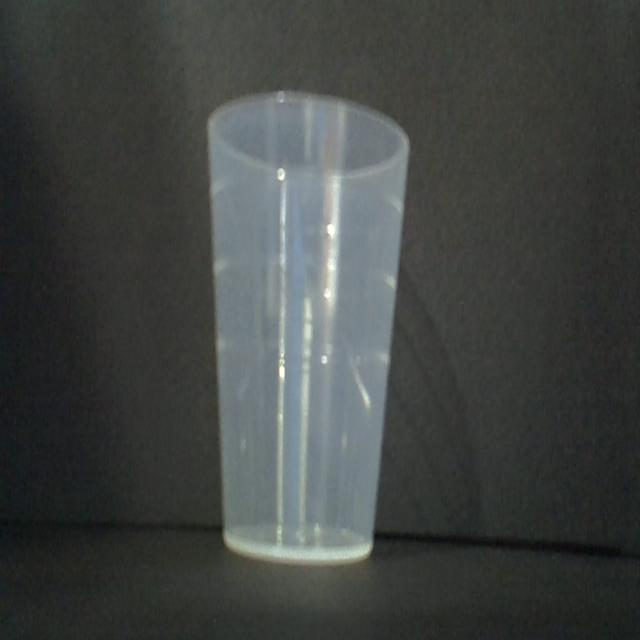cup: (206, 94, 414, 576)
